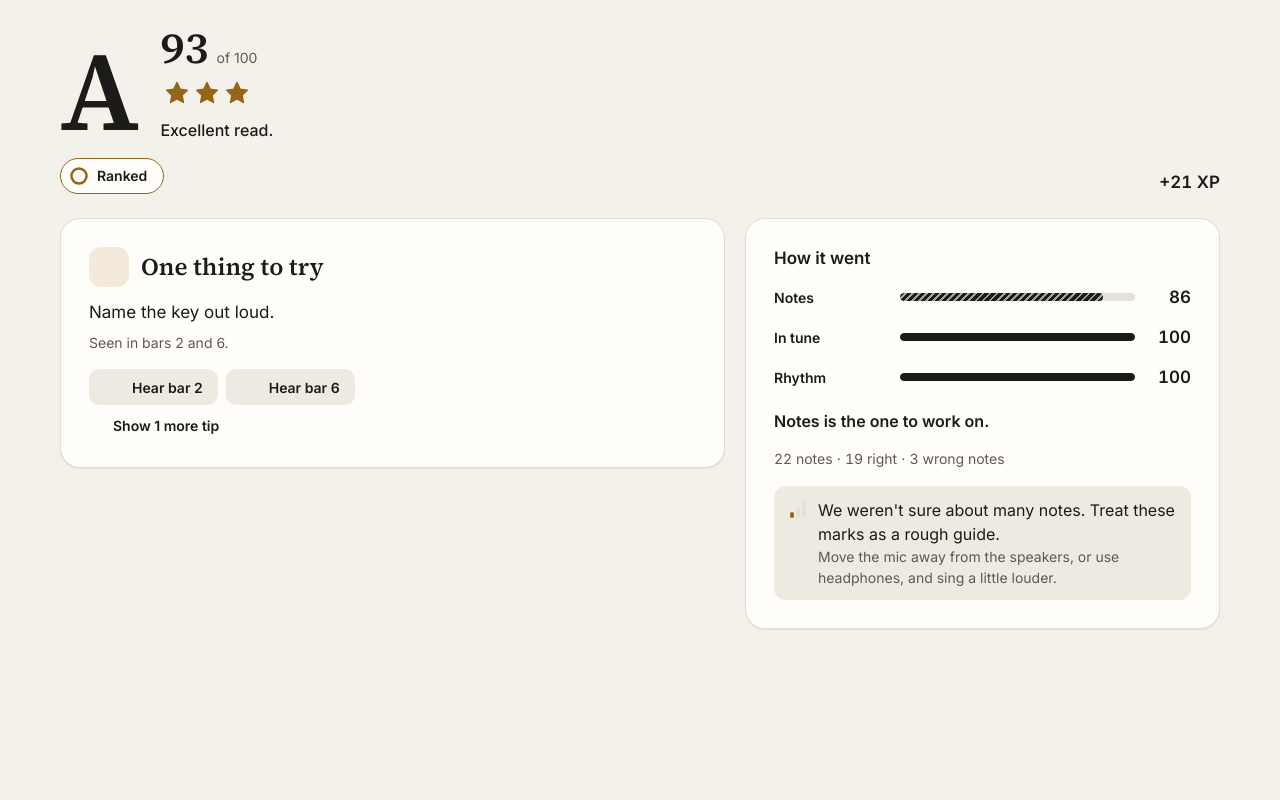
Scenario: "One thing to try" on the results page › more tips wait behind "Show 1 more tip", which reads "Hide tip" when open; "Hear bars 3 to 4" for a run
Later steps or results of the test are not shown.
Expected: the text with class "res-tip-text" reads "Name the key out loud.", x1=89 y1=302 x2=274 y2=322
Click the button with class "res-tip-more" at (154, 425), box x1=89 y1=413 x2=219 y2=437
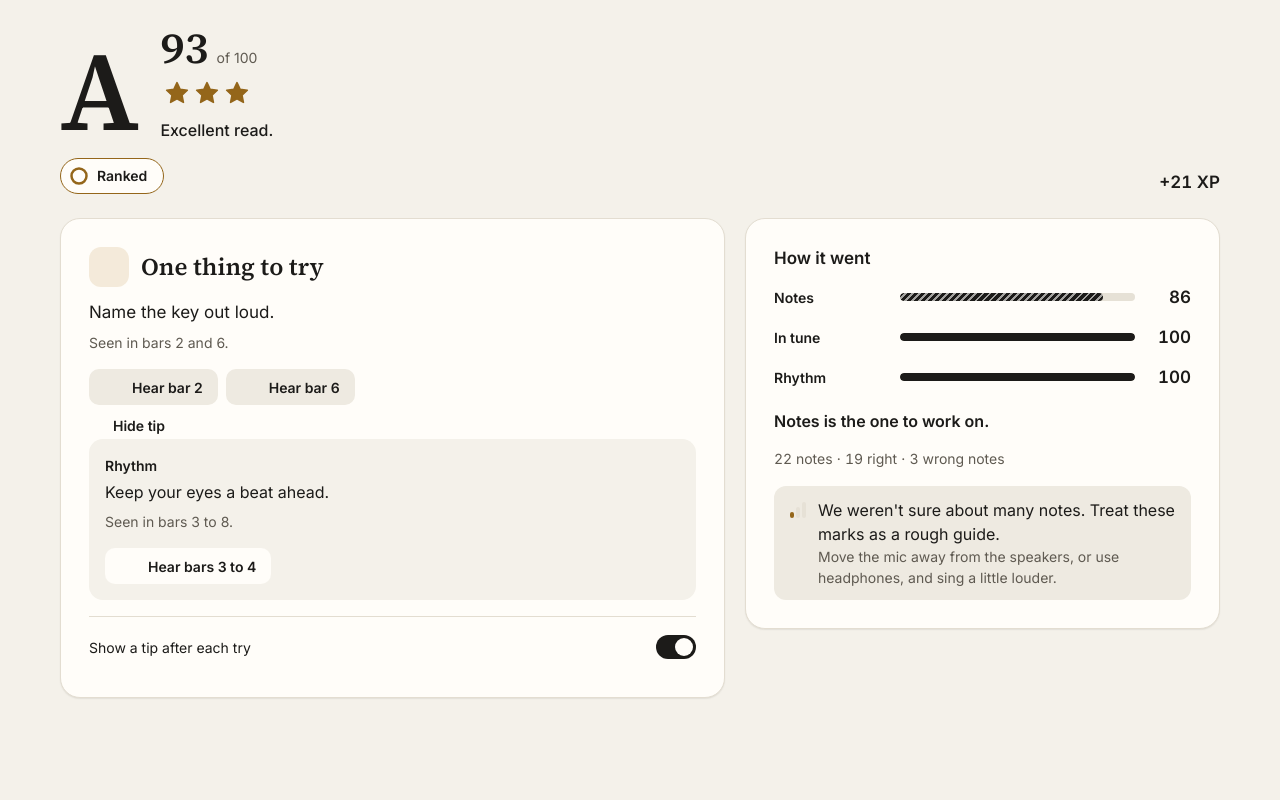
Now the button with class "res-tip-more" reads "Hide tip", box x1=89 y1=413 x2=165 y2=437
Now the text with class "res-tip-body" reads "Keep your eyes a beat ahead.", box x1=105 y1=482 x2=329 y2=502
